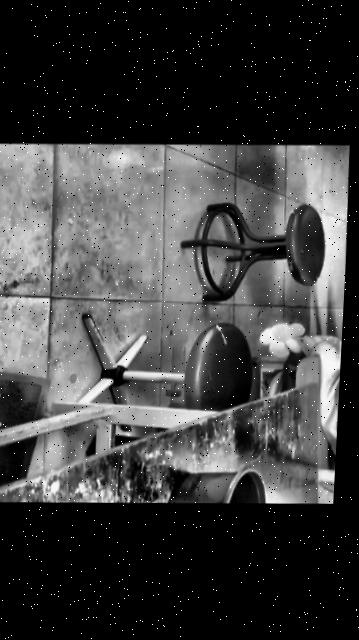pot: (166, 470, 264, 504)
